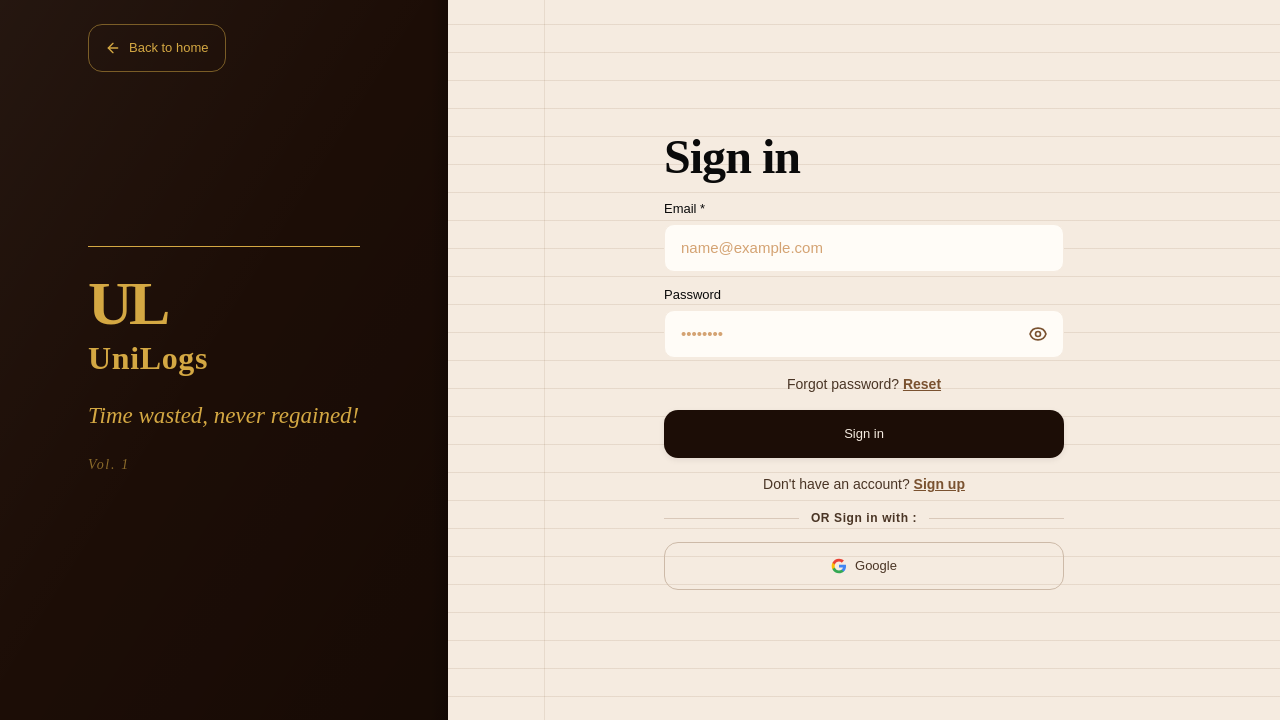
Test: auth back links › sign in → reset password offers "Back to sign in"
Step 1. Click the link "Reset" → (922, 384), box [903,376,941,392]
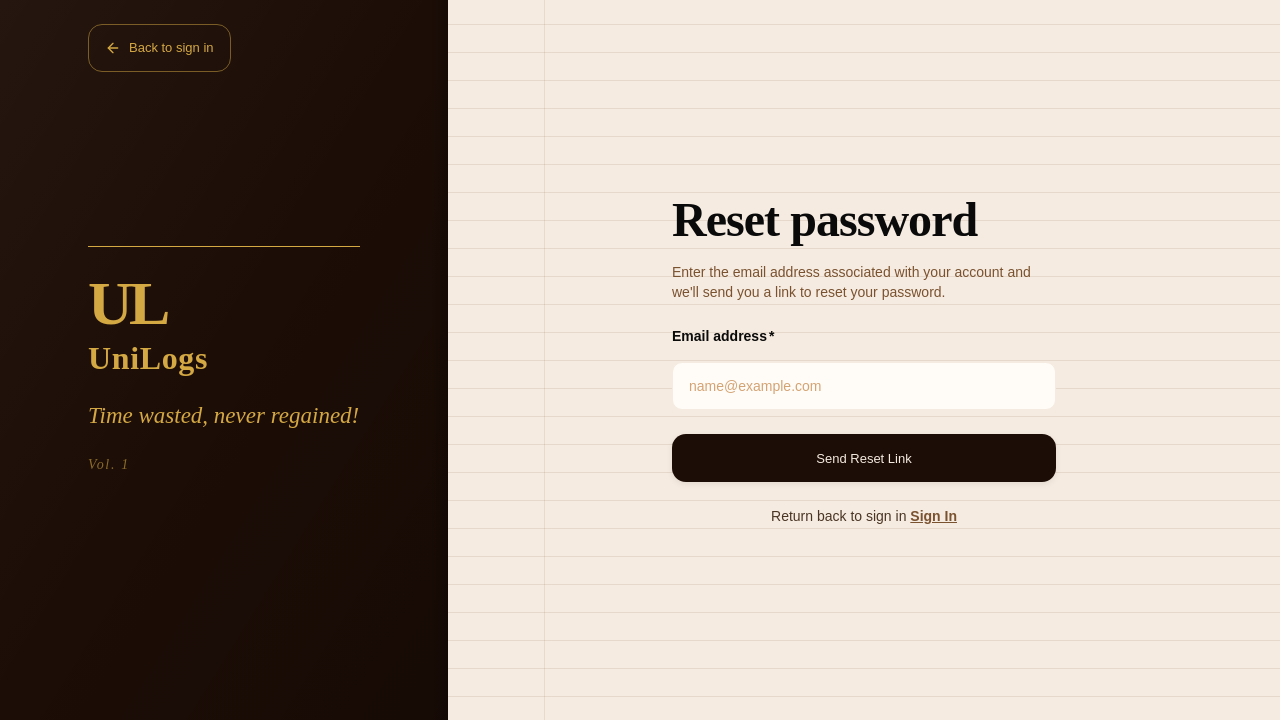
Expected: the link "Back to sign in" is shown, [88,24,230,72]
